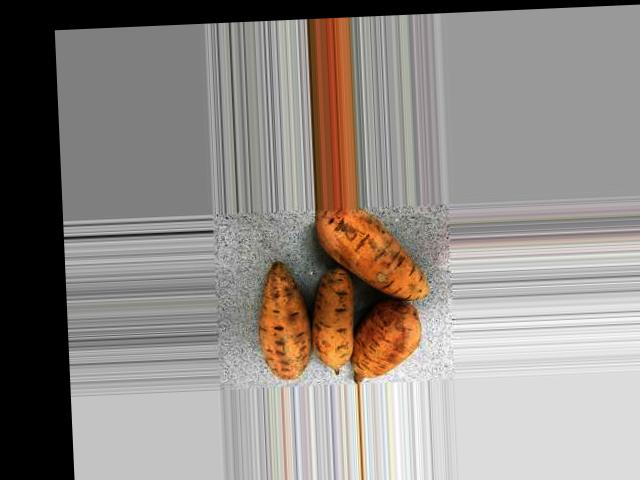sweet_potato: (302, 204, 438, 303)
